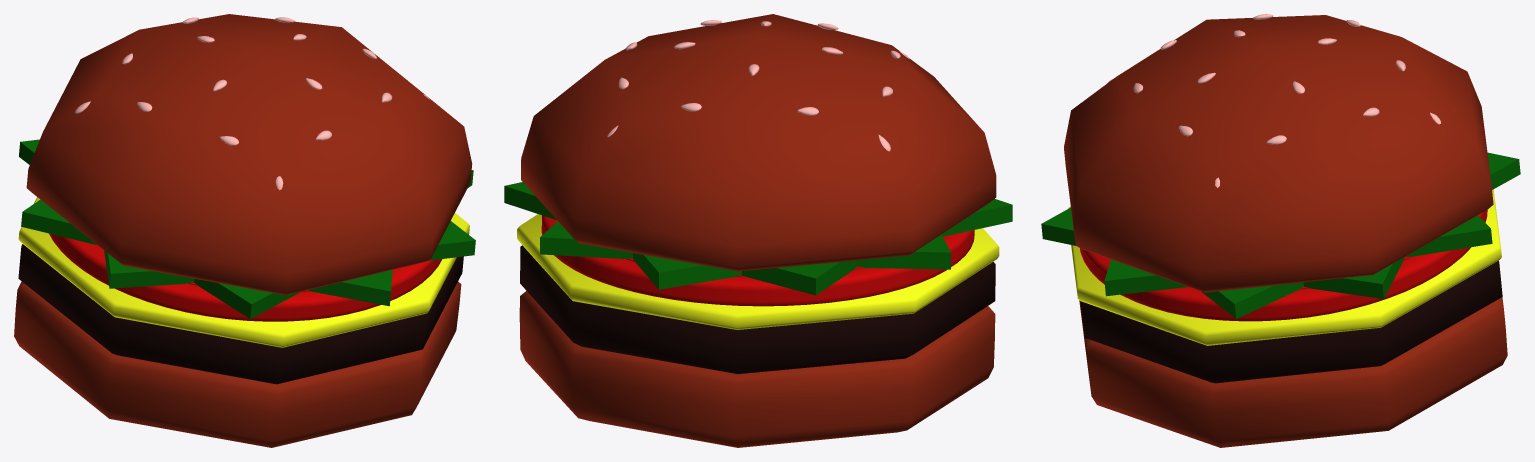
3 views of the same model, side by side, from view 1: azimuth 30°, elevation 25°; view 2: azimuth 150°, elevation 25°; view 3: azimuth 270°, elevation 25° (orthographic). The views are drawn at different scales.
Parts seen in each view (by area): view 1: Top_bun, Bottom_bun, Meat, Cheese, Lettuce, Outer, Seed_10; view 2: Top_bun, Bottom_bun, Meat, Cheese, Lettuce, Outer, Seed_10; view 3: Top_bun, Bottom_bun, Meat, Cheese, Lettuce, Outer, Seed_10.
Boxes of the visible parts, bbox=[...] form: Top_bun: bbox=[26, 14, 472, 295]; Bottom_bun: bbox=[14, 281, 461, 447]; Meat: bbox=[18, 244, 463, 384]; Cheese: bbox=[18, 197, 469, 347]; Lettuce: bbox=[19, 139, 475, 318]; Outer: bbox=[49, 233, 442, 321]; Seed_10: bbox=[75, 17, 429, 190]; Top_bun: bbox=[521, 14, 996, 271]; Bottom_bun: bbox=[519, 291, 995, 447]; Meat: bbox=[520, 245, 995, 373]; Cheese: bbox=[517, 214, 999, 329]; Lettuce: bbox=[504, 182, 1012, 295]; Outer: bbox=[541, 215, 974, 306]; Seed_10: bbox=[607, 20, 909, 151]; Top_bun: bbox=[1064, 15, 1493, 292]; Bottom_bun: bbox=[1079, 297, 1507, 447]; Meat: bbox=[1080, 260, 1502, 383]; Cheese: bbox=[1068, 189, 1501, 345]; Lettuce: bbox=[1041, 152, 1520, 318]; Outer: bbox=[1080, 210, 1487, 321]; Seed_10: bbox=[1107, 14, 1440, 187].
Bounding box in the file's own units: 30.44 × 30.74 × 23.21.
